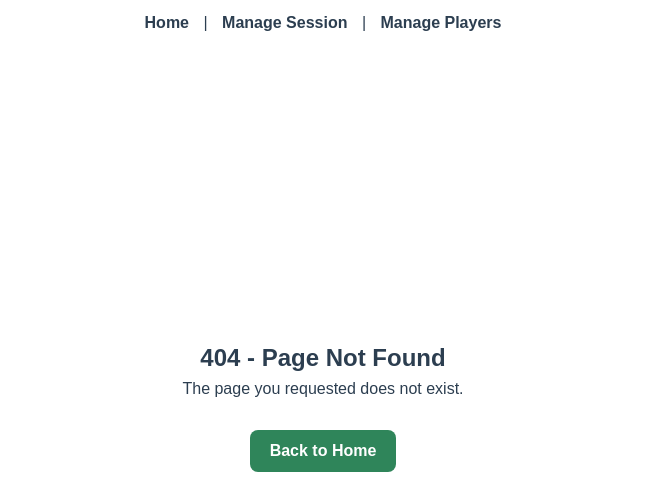
Test: Application routes › shows Not Found for an invalid identified route and links back Home
Check: the heading "404 - Page Not Found" is shown, box [200, 344, 446, 372]
Click the link "Back to Home".
click(324, 451)  # box [250, 430, 397, 472]
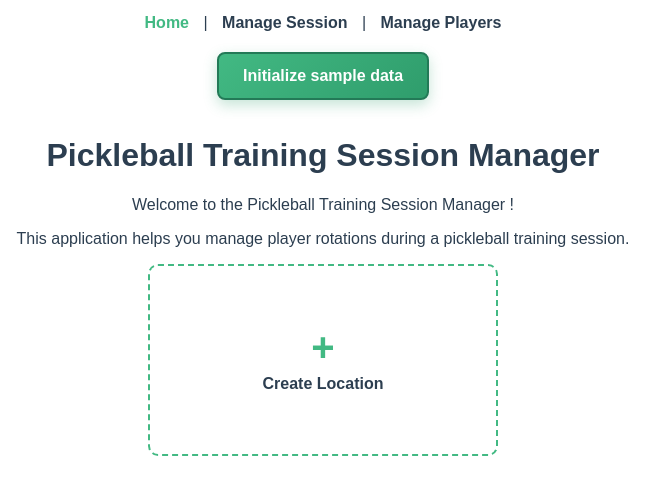
Check: the heading "Pickleball Training Session Manager" is shown, box [46, 137, 600, 173]
